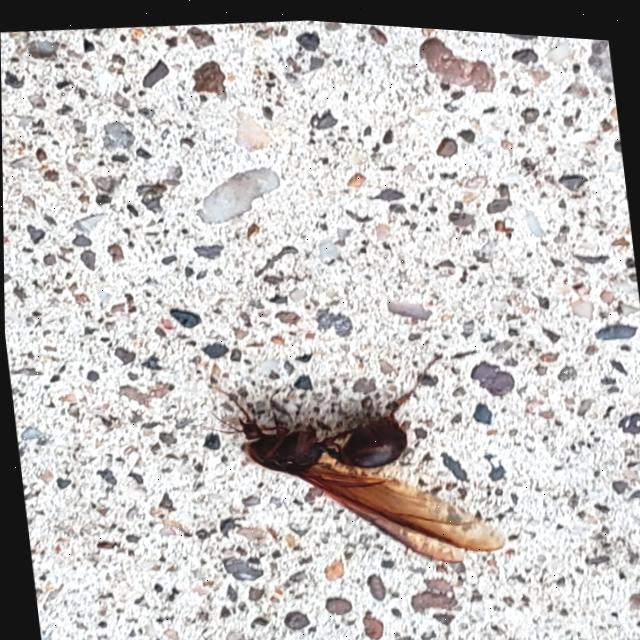Alive-Male-Alate: (191, 344, 508, 585)
